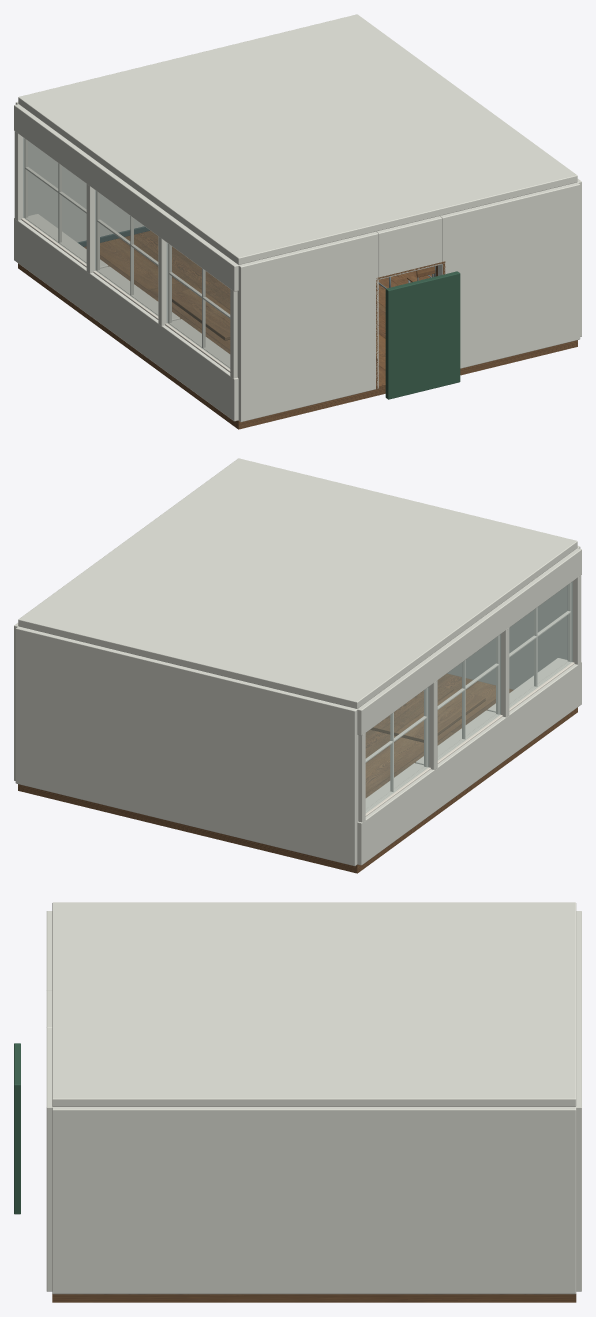
Rendered from exam-2.glb.
The picture shows the model from 3 angles, top to bottom: view 1: azimuth 30°, elevation 25°; view 2: azimuth 150°, elevation 25°; view 3: azimuth 270°, elevation 25°; orthographic projection. The views are drawn at different scales.
Visible parts, largest first — view 1: exam-2__architecture_and_equipment; view 2: exam-2__architecture_and_equipment; view 3: exam-2__architecture_and_equipment.
Part boxes in pixels (x1,y1,x2,y2): exam-2__architecture_and_equipment: (14, 14, 581, 429); exam-2__architecture_and_equipment: (14, 458, 581, 873); exam-2__architecture_and_equipment: (14, 902, 581, 1302).
Size of the model in its own units: 8.2 by 3.86 by 9.76.
12 materials, 1 textured.
